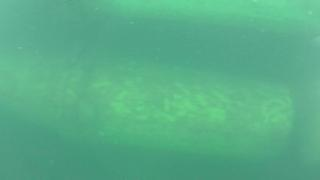pipe: (1, 49, 294, 168), (1, 1, 309, 31)
